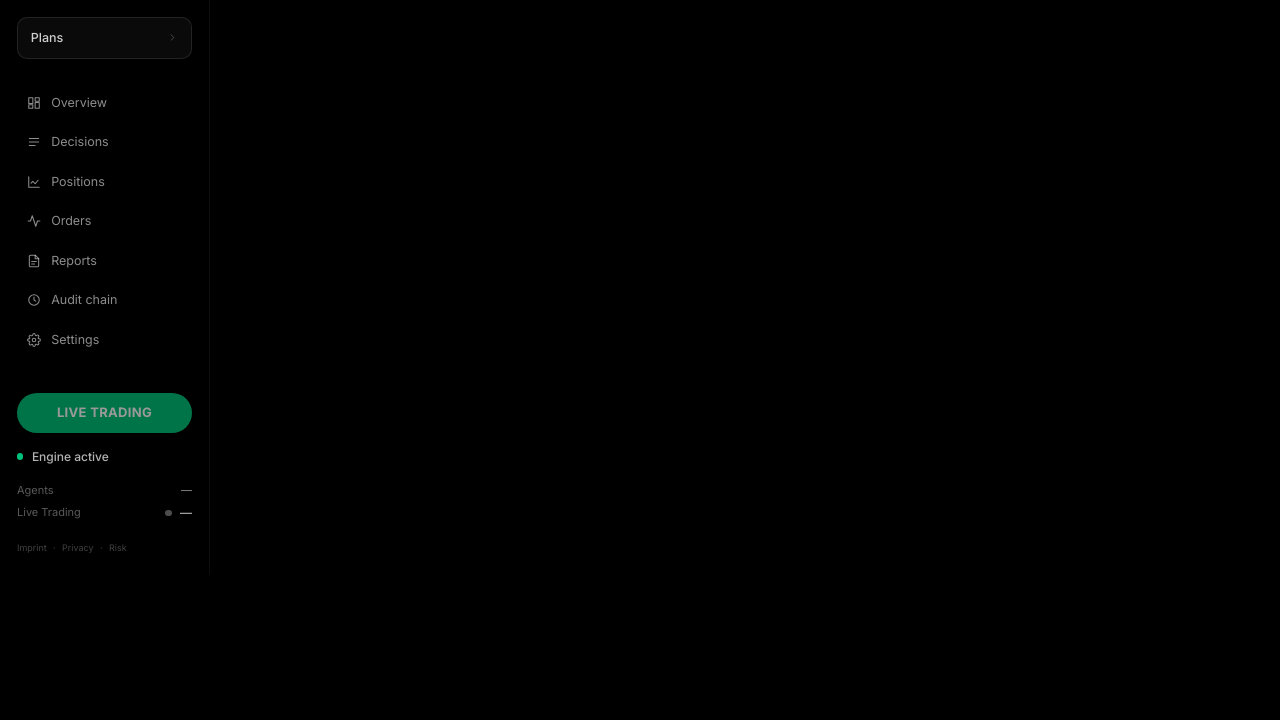
it: console Sidebar › Senior (PRO) sees the discreet 'Plans' entry (not the UPGRADE pill, not Chat) → opens the modal
This screenshot has width=1280, height=720.
Click the button "Plans" at (104, 38), box [17,17,192,59]
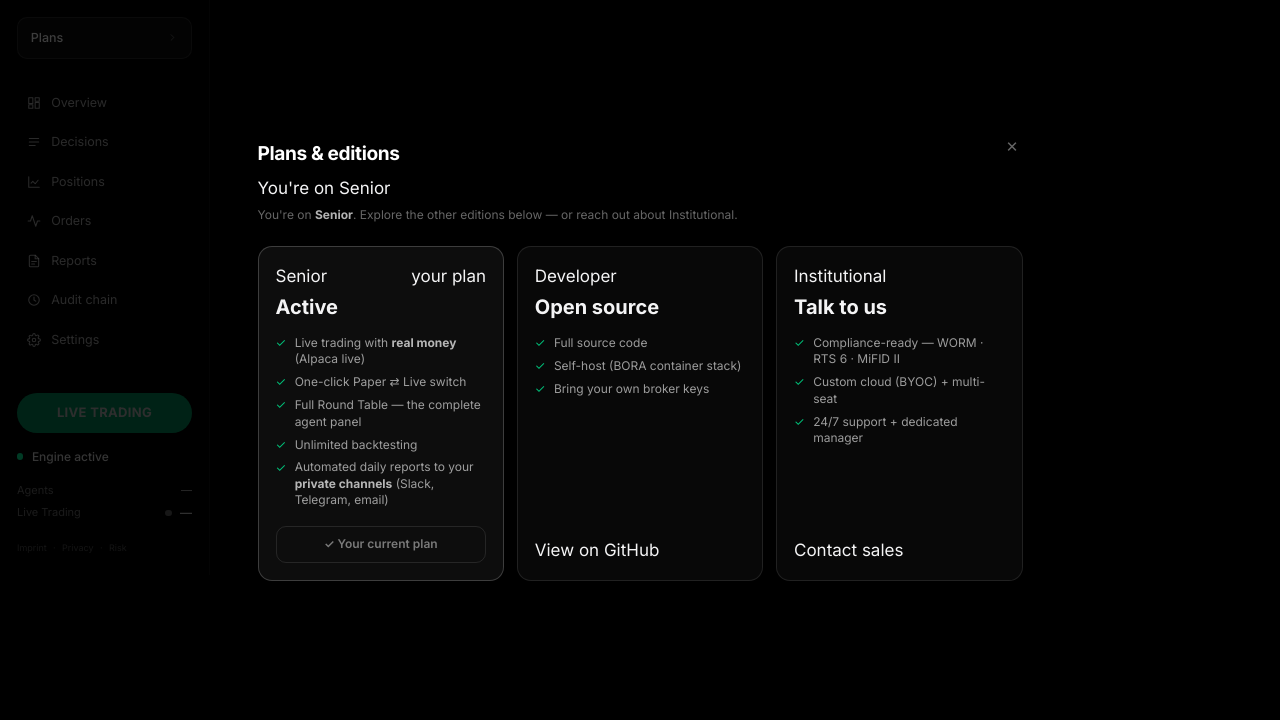
Expected: the heading "Plans & editions" is shown, [258,139,400,169]
